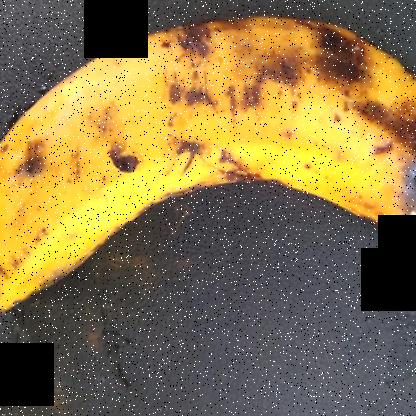overripe: (0, 1, 370, 321)
rotten: (268, 40, 415, 263)
